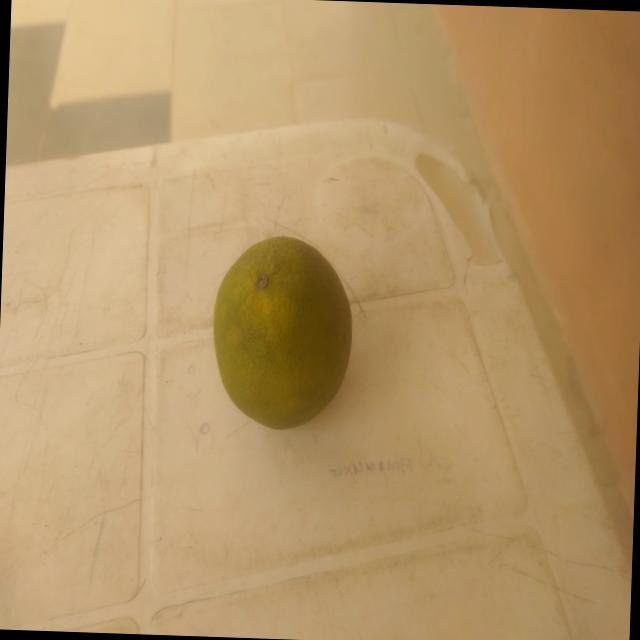agrume: (180, 201, 372, 456)
